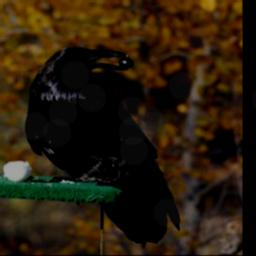Crow: (24, 46, 180, 246)
